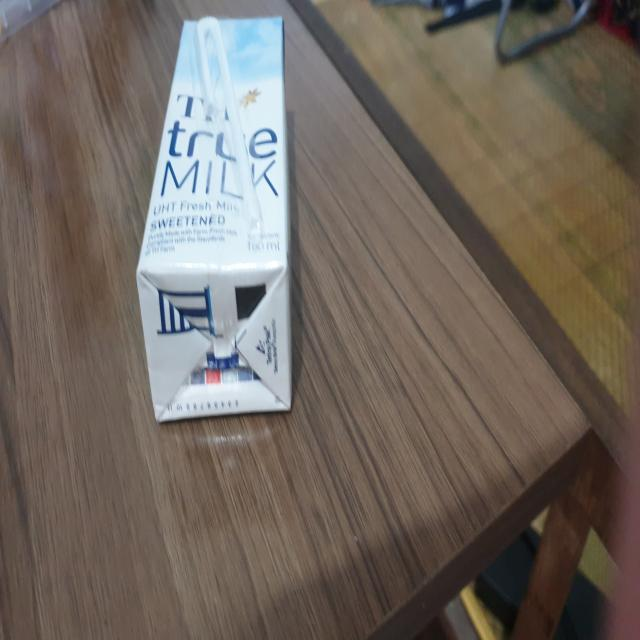TH: (137, 17, 292, 424)
